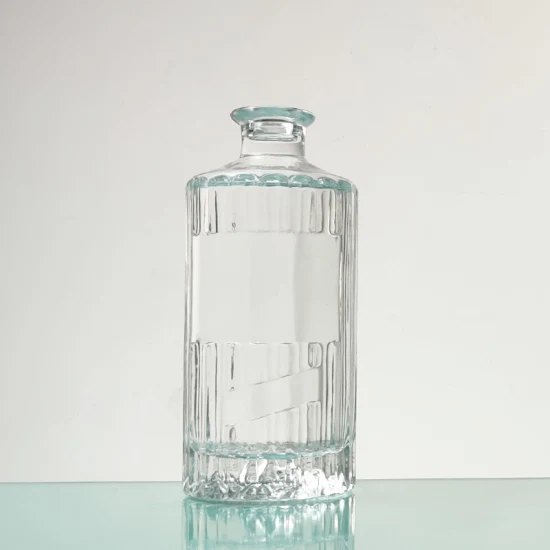glass_bottle: (161, 88, 391, 522)
